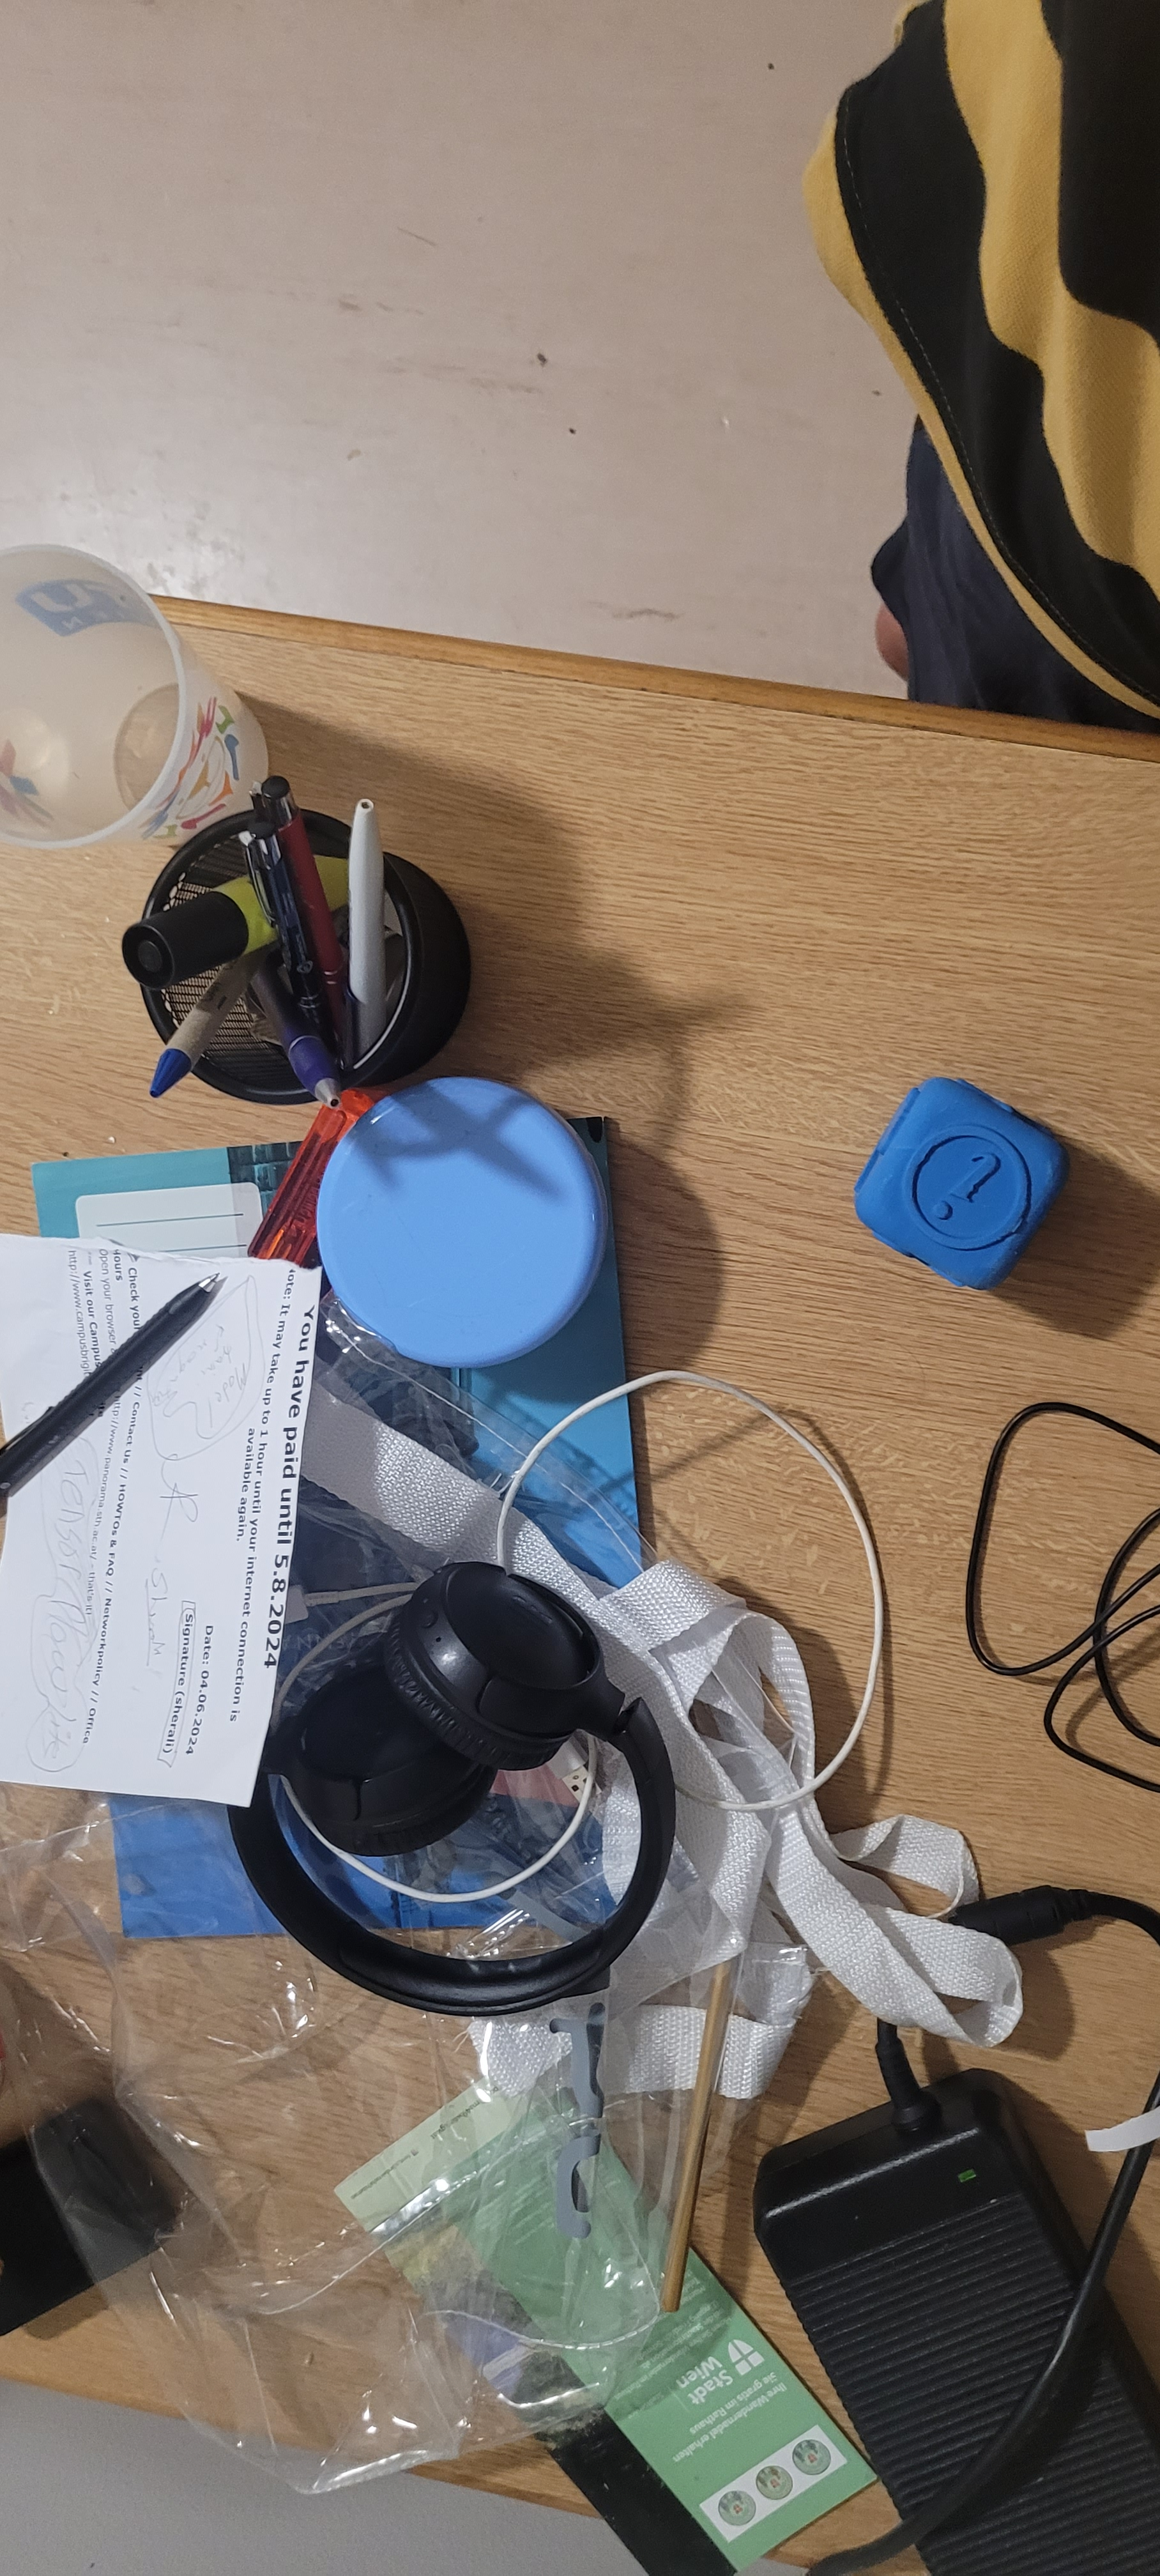Info: (859, 1125, 1076, 1249)
